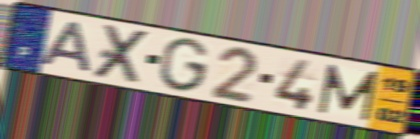2: (211, 45, 262, 106)
4: (272, 57, 316, 112)
A: (37, 19, 94, 75)
G: (156, 36, 212, 94)
M: (316, 62, 382, 123)
X: (89, 23, 154, 86)
